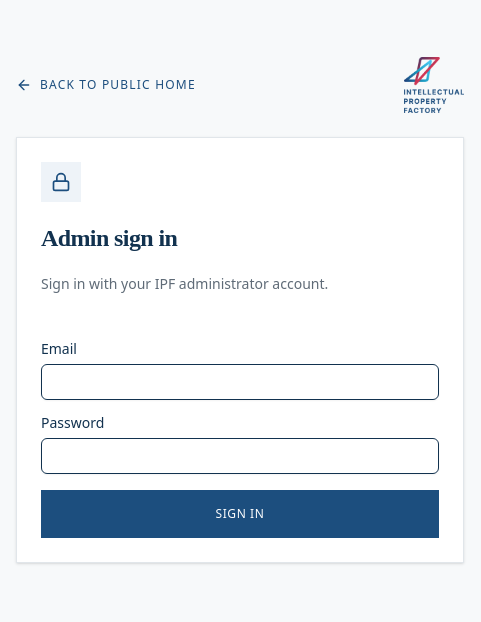
Test case: admin sign-in page › shows the server's message, such as the generic not-authorised refusal, and stays on the page
The width and height of the screenshot is (481, 622).
In the field labelled "Email": (240, 382) [41,364,439,400], type "client@example.test"
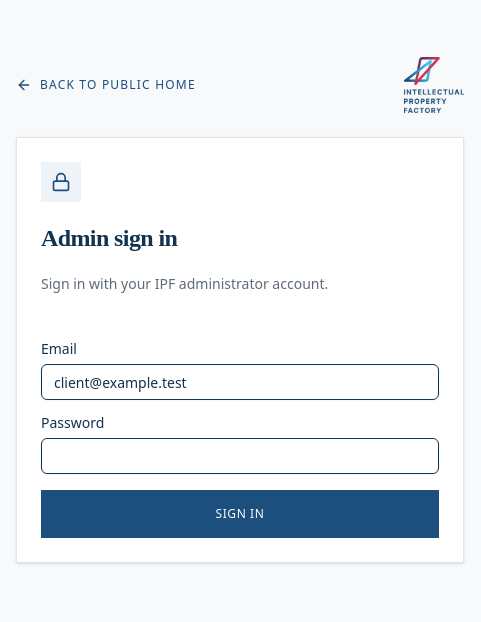
In the password field labelled "Password": (240, 456) [41,438,439,474], type "correct horse 42"
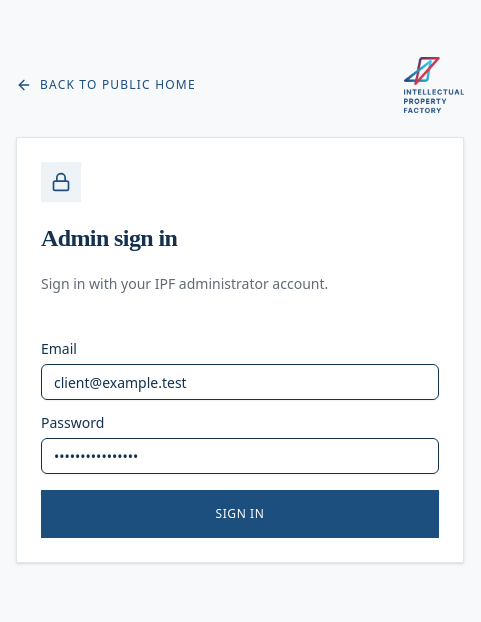
Click the button "Sign in": (240, 514) [41,490,439,538]
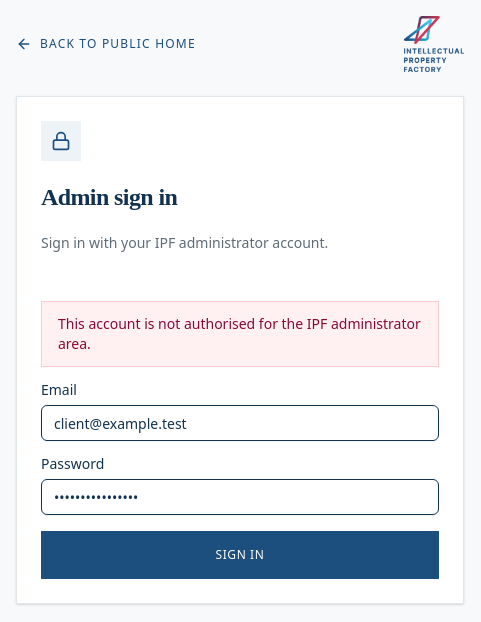
Expected: the message reads "This account is not authorised for the IPF administrator area.", [58,314,421,353]
